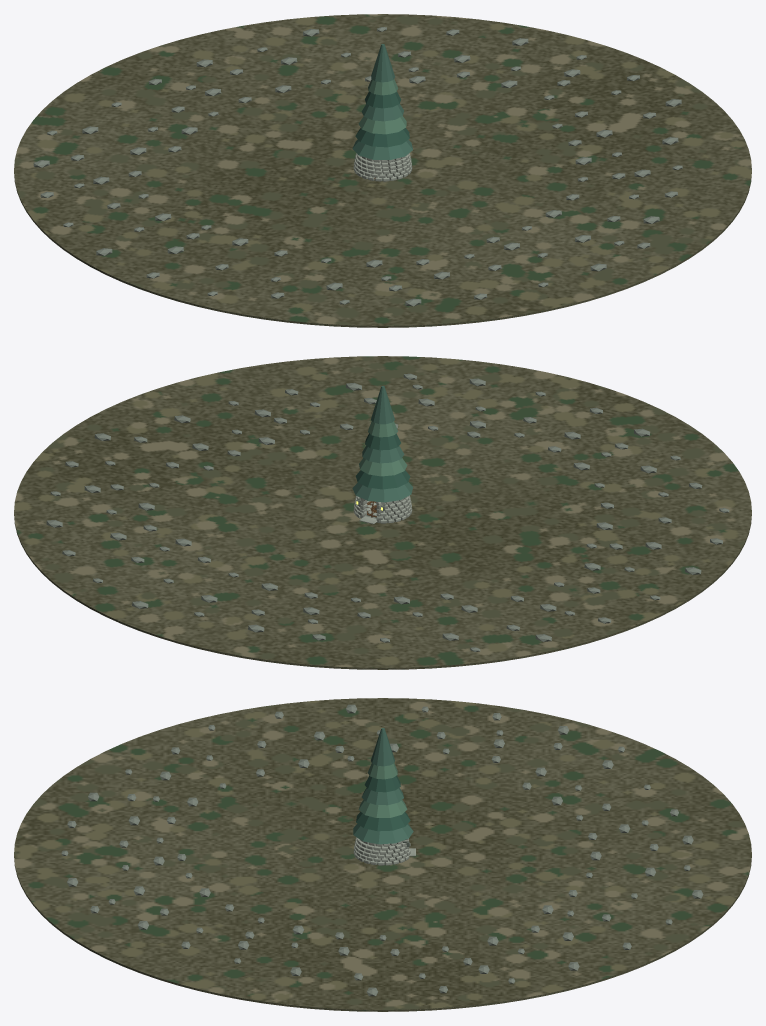
Rendered from camp-base-kit.glb.
3 views of the same model, one above another, from view 1: azimuth 30°, elevation 25°; view 2: azimuth 150°, elevation 25°; view 3: azimuth 270°, elevation 25° (orthographic).
Visible parts, largest first — view 1: CampBase.ForestFloor, CampBase.PineBoughs, CampBase.HutMasonry; view 2: CampBase.ForestFloor, CampBase.PineBoughs, CampBase.HutMasonry; view 3: CampBase.ForestFloor, CampBase.PineBoughs, CampBase.HutMasonry.
Part boxes in pixels (left/top/right/bottom): CampBase.ForestFloor: left=14, top=14, right=751, bottom=327; CampBase.PineBoughs: left=352, top=44, right=412, bottom=159; CampBase.HutMasonry: left=353, top=153, right=412, bottom=181; CampBase.ForestFloor: left=14, top=356, right=751, bottom=669; CampBase.PineBoughs: left=352, top=386, right=412, bottom=502; CampBase.HutMasonry: left=353, top=495, right=412, bottom=524; CampBase.ForestFloor: left=14, top=698, right=751, bottom=1011; CampBase.PineBoughs: left=353, top=728, right=413, bottom=844; CampBase.HutMasonry: left=353, top=837, right=415, bottom=865.
Size of the model in its own units: 34.8 by 6.63 by 34.8.
Materials: 13 (5 with a texture image).
